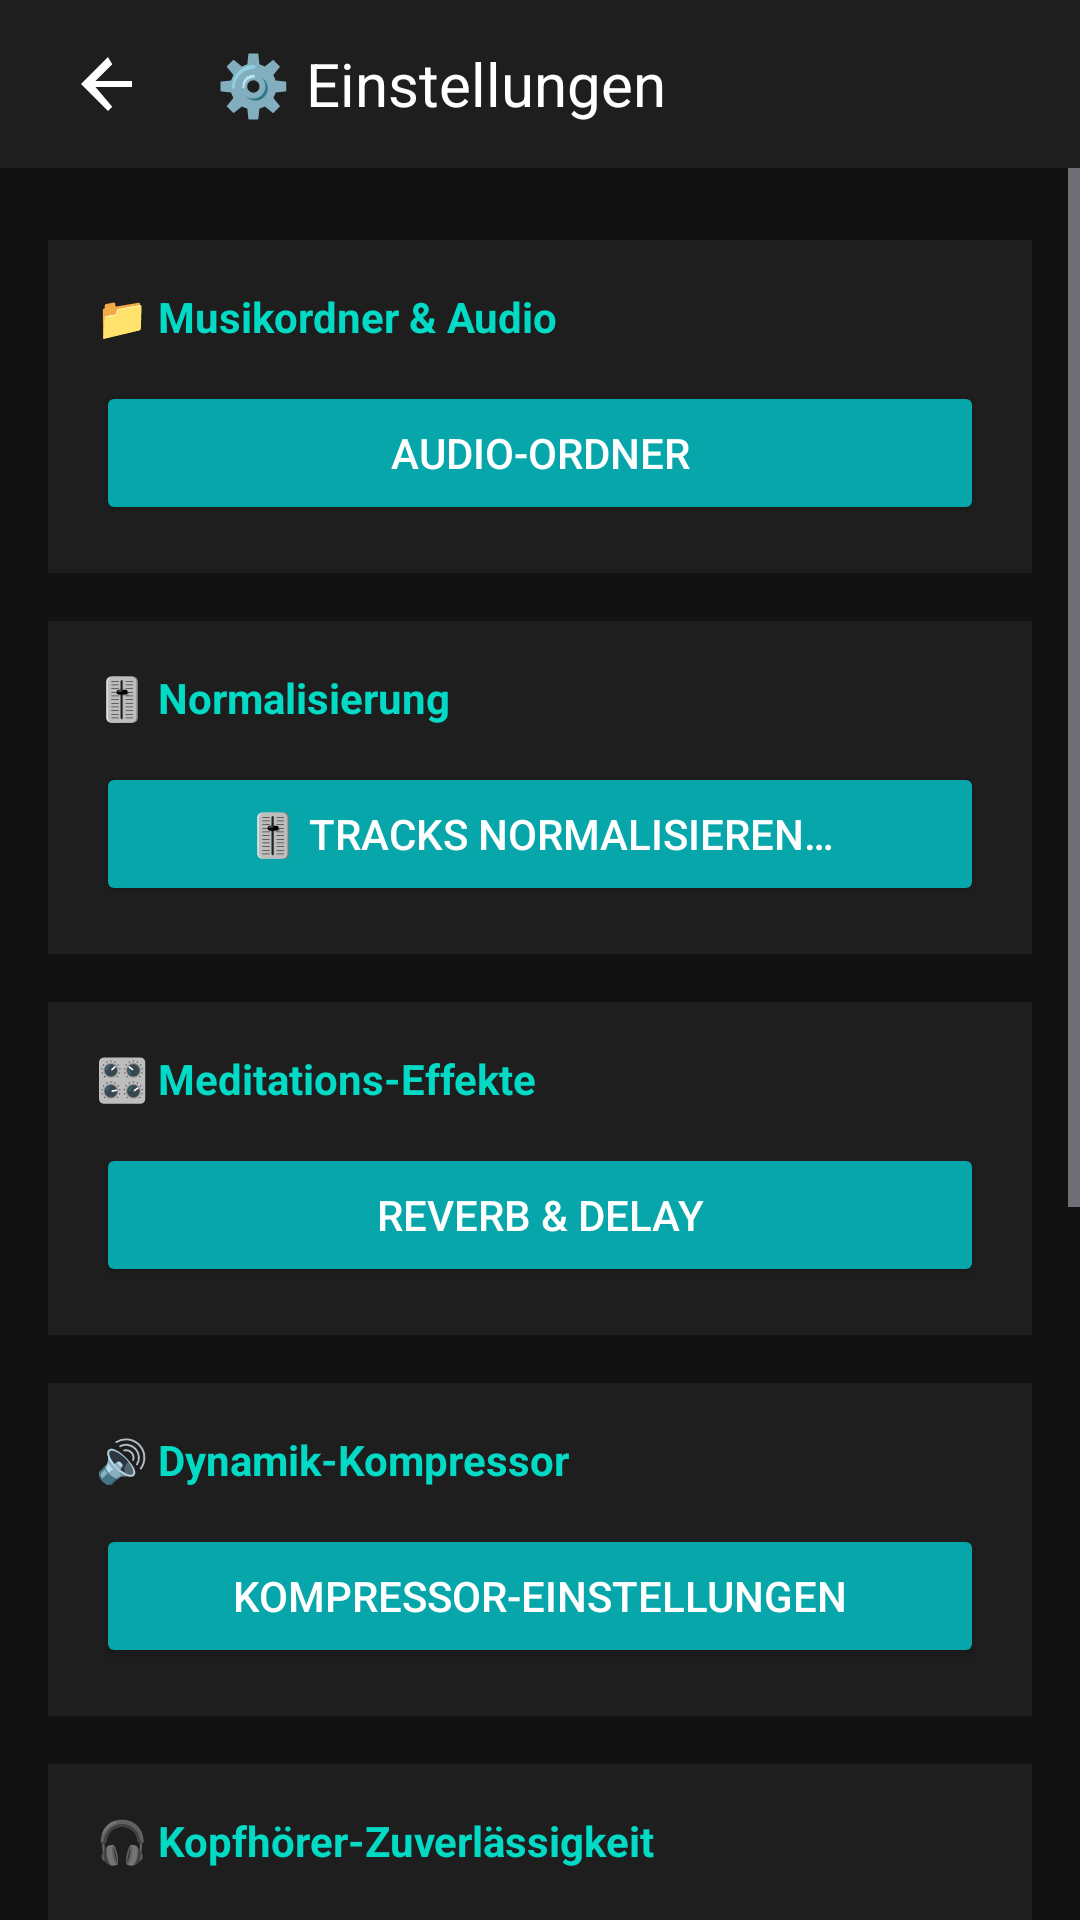

Point at icon controls on the screen. Image size 1080×1920, points as point (x, y).
Zurück: point (106, 84)
